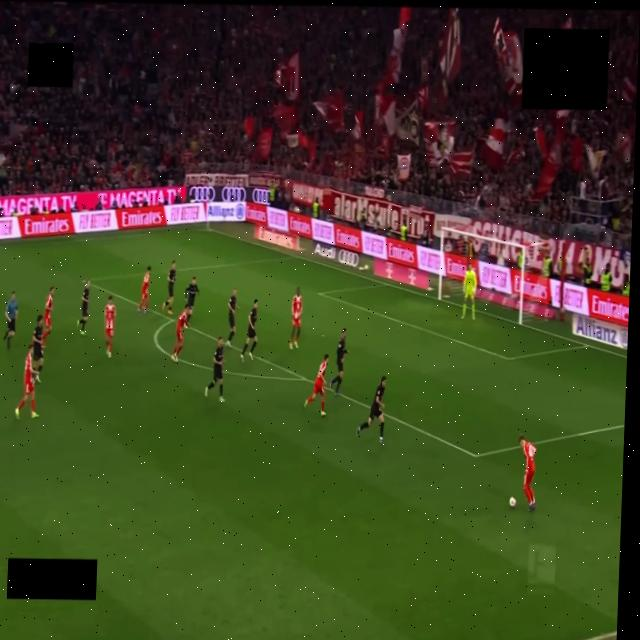ball: (510, 497, 516, 508)
player: (357, 376, 386, 443), (15, 345, 38, 418), (304, 355, 328, 416), (519, 436, 536, 511), (205, 337, 224, 403), (330, 328, 347, 394), (172, 305, 191, 362), (241, 300, 258, 362), (289, 288, 302, 349), (462, 264, 476, 319), (32, 315, 43, 383), (104, 296, 116, 358), (226, 289, 238, 347), (78, 280, 90, 335), (163, 261, 175, 315), (42, 287, 53, 345), (137, 266, 150, 313), (185, 276, 198, 320)
referee: (3, 291, 18, 348)
